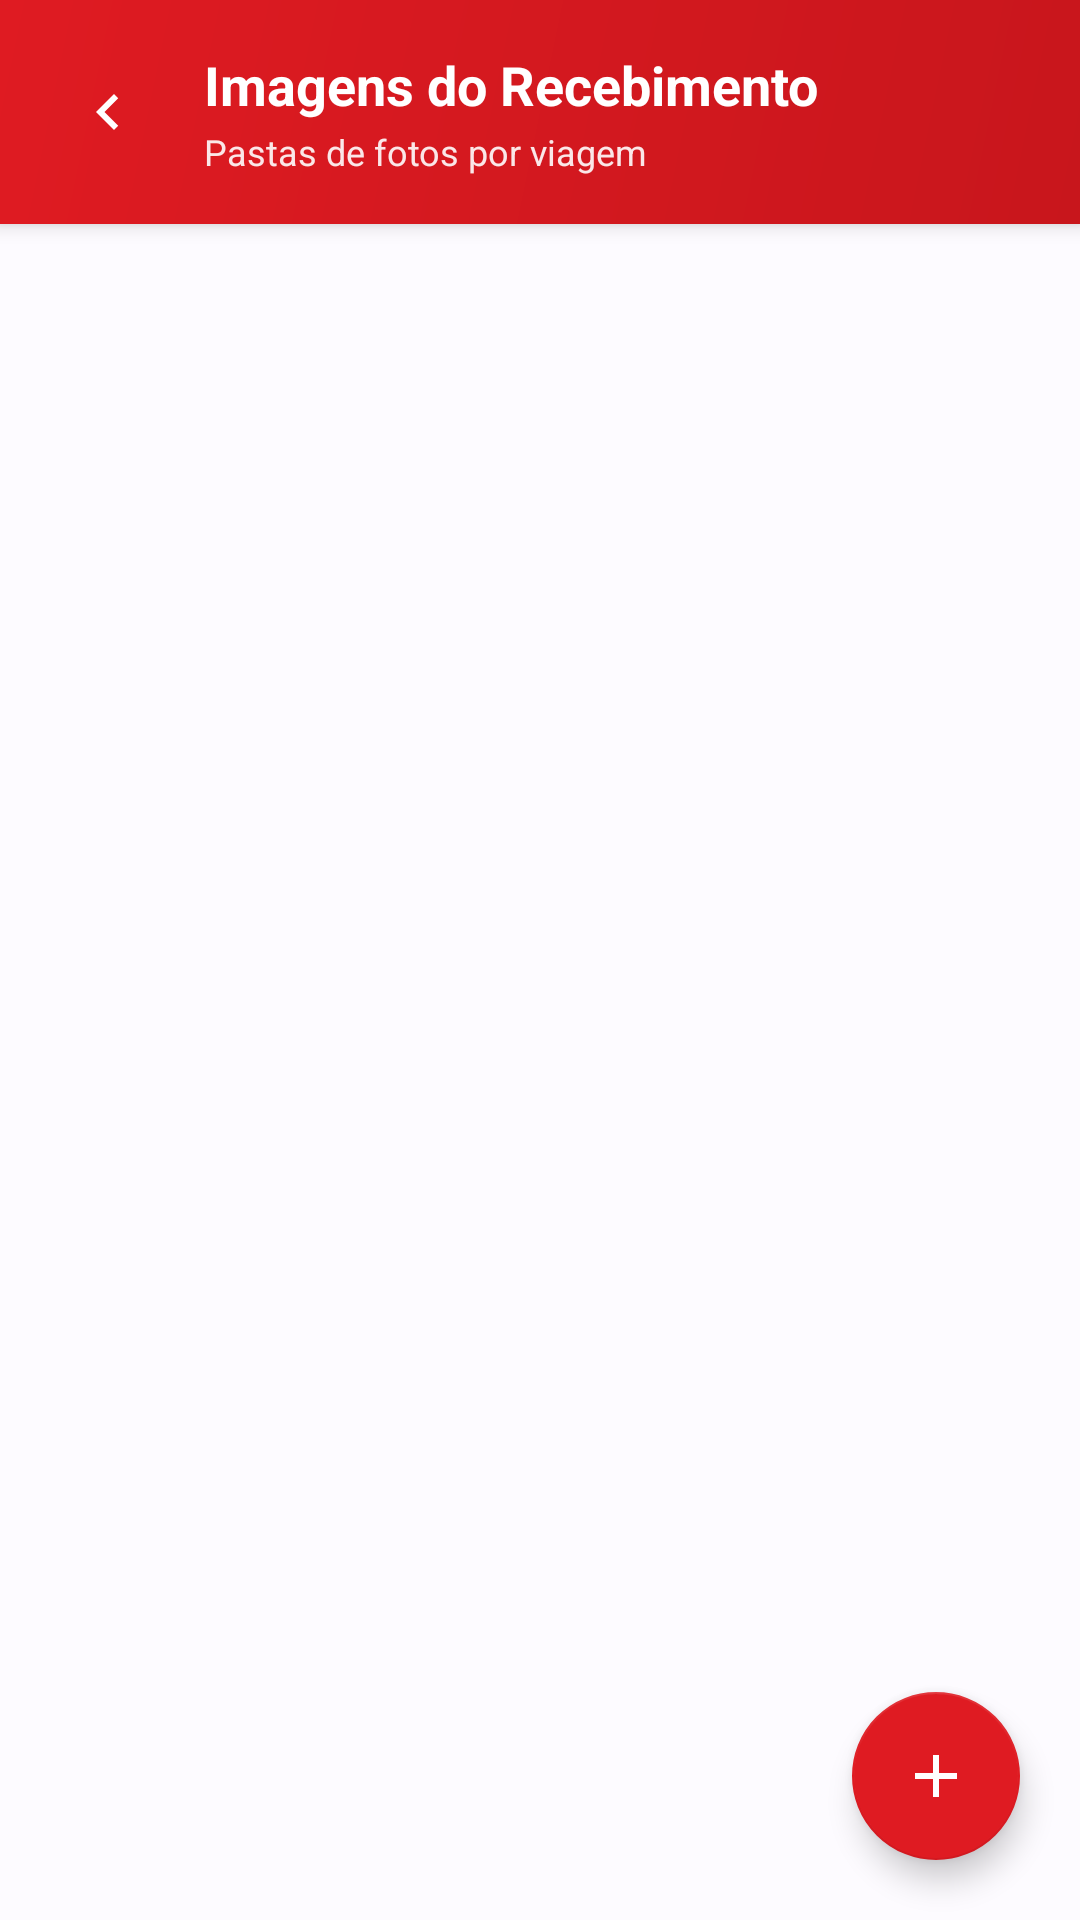

Icon click points for this 1080w x 1920h phone screenshot, format [x,y]:
add: [936,1776]
back: [107,112]
